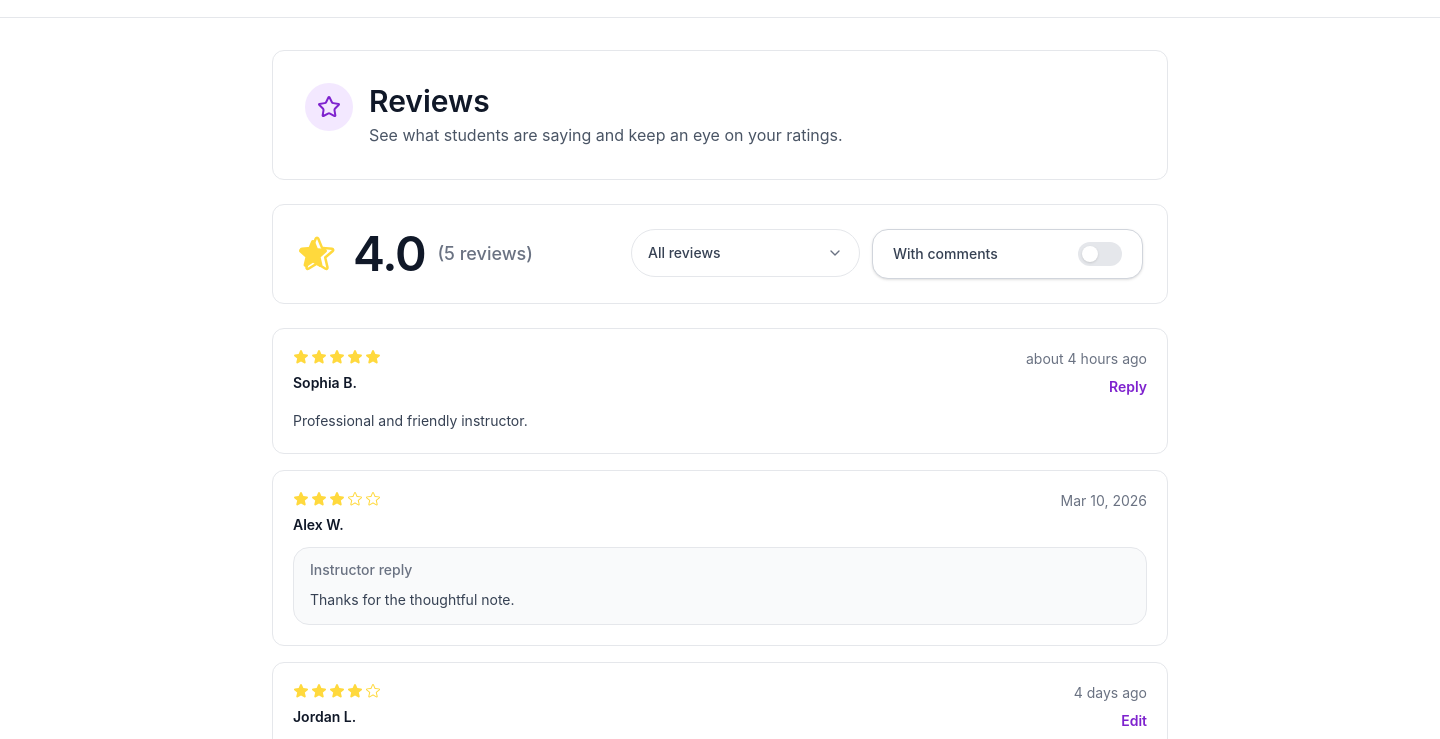
Test: InstructorReviewsPage › prefills the existing response when editing a written review reply
This screenshot has width=1440, height=739.
Click the button "Edit": coordinates (1134, 721) [1121,711,1147,731]
(page scrolled)
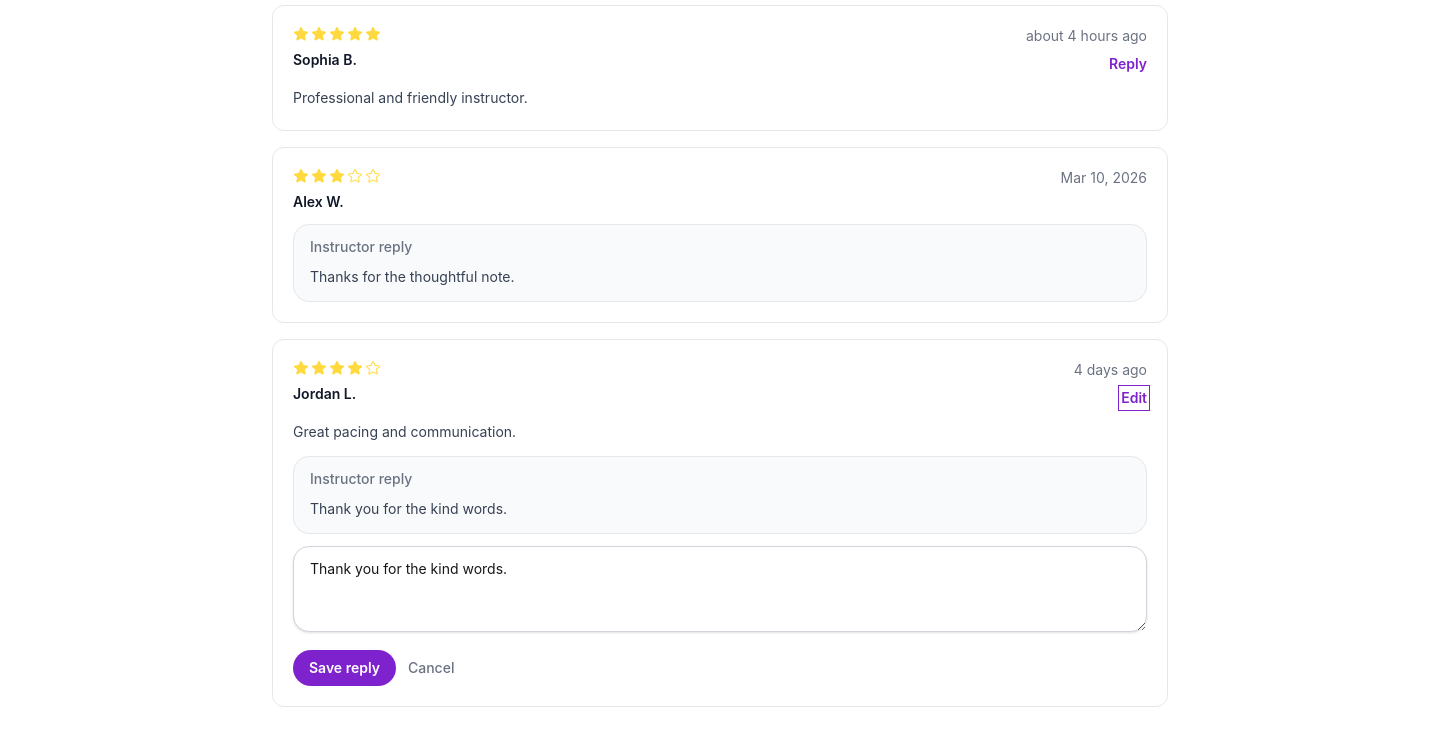
Now the text box named "Reply to Jordan L." holds "Thank you for the kind words.", box [293,546,1147,632]
Now the button "Save reply" is shown, box [293,650,396,686]
